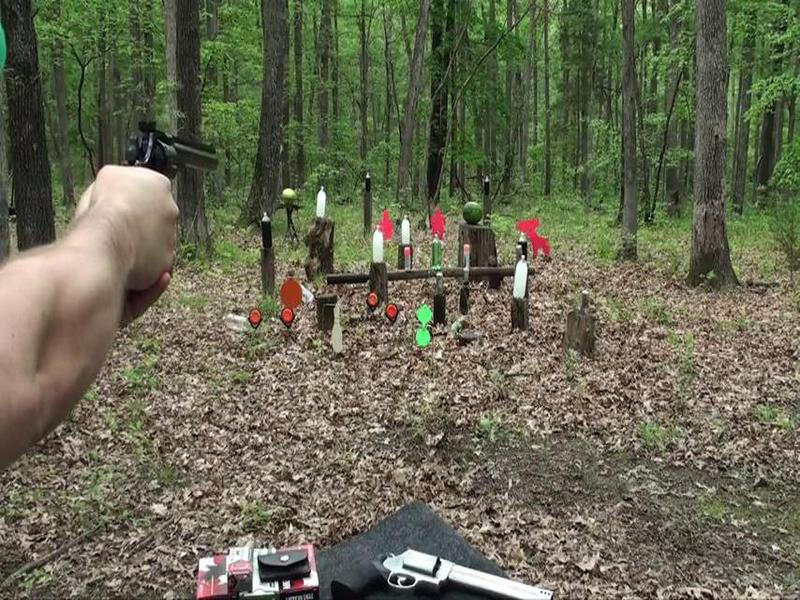Revolver: (107, 117, 231, 228)
